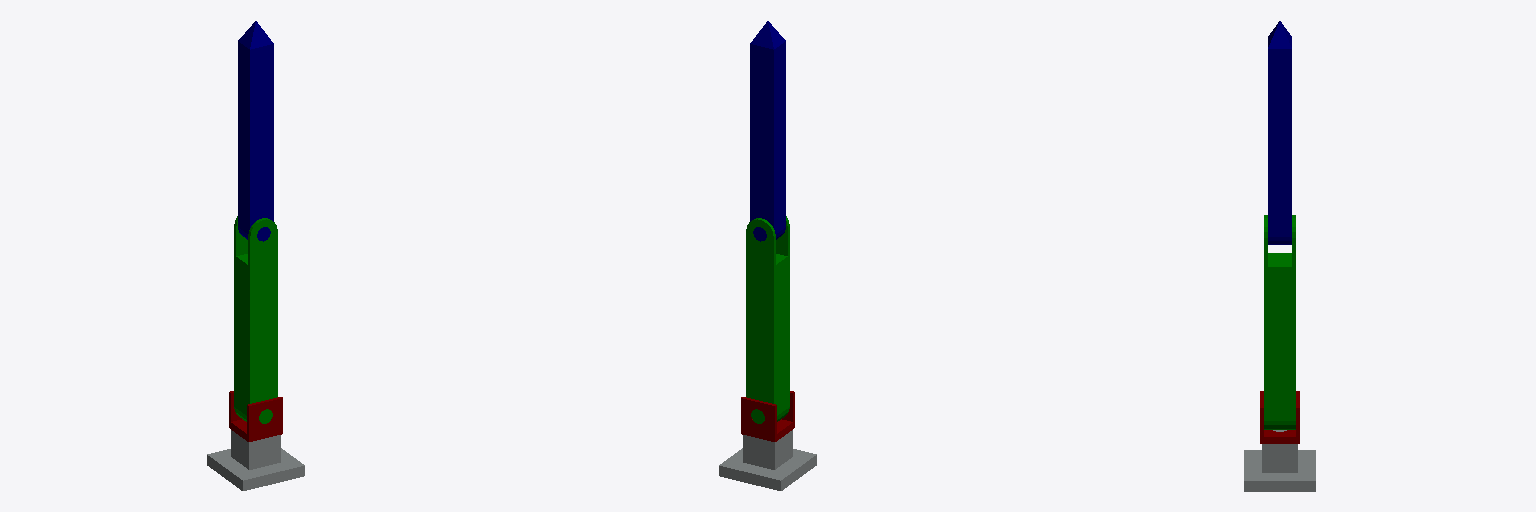
URDF robot description (Robot_3R_URDF_description):
<?xml version="1.0" encoding="utf-8"?>
<!-- This URDF was automatically created by SolidWorks to URDF Exporter! Originally created by [author] ([email redacted]) 
     Commit Version: 1.6.0-1-g15f4949  Build Version: 1.6.7594.29634
     For more information, please see http://wiki.ros.org/sw_urdf_exporter -->
<robot
  name="Robot_3R_URDF_description">
  <link
    name="base_link">
    <inertial>
      <origin
        xyz="-8.6736E-19 1.0408E-17 0.019134"
        rpy="0 0 0" />
      <mass
        value="1.604" />
      <inertia
        ixx="0.0011774"
        ixy="-4.8711E-20"
        ixz="-3.6375E-21"
        iyy="0.0011774"
        iyz="-5.648E-20"
        izz="0.0014939" />
    </inertial>
    <visual>
      <origin
        xyz="0 0 0"
        rpy="0 0 0" />
      <geometry>
        <mesh
          filename="package://Robot_3R_URDF_description/meshes/base_link.STL" />
      </geometry>
      <material
        name="gris">
        <color
          rgba="0.52941 0.54902 0.54902 1" />
      </material>
    </visual>
    <collision>
      <origin
        xyz="0 0 0"
        rpy="0 0 0" />
      <geometry>
        <mesh
          filename="package://Robot_3R_URDF_description/meshes/base_link.STL" />
      </geometry>
    </collision>
  </link>
  <link
    name="wrist_link">
    <inertial>
      <origin
        xyz="-1.4745E-17 6.9389E-18 -0.014114"
        rpy="0 0 0" />
      <mass
        value="0.10454" />
      <inertia
        ixx="6.053E-05"
        ixy="-5.9702E-21"
        ixz="-2.2069E-21"
        iyy="4.8429E-05"
        iyz="-1.8968E-21"
        izz="6.1877E-05" />
    </inertial>
    <visual>
      <origin
        xyz="0 0 0"
        rpy="0 0 0" />
      <geometry>
        <mesh
          filename="package://Robot_3R_URDF_description/meshes/wrist_link.STL" />
      </geometry>
      <material
        name="rojo">
        <color
          rgba="0.5 0 0 1" />
      </material>
    </visual>
    <collision>
      <origin
        xyz="0 0 0"
        rpy="0 0 0" />
      <geometry>
        <mesh
          filename="package://Robot_3R_URDF_description/meshes/wrist_link.STL" />
      </geometry>
    </collision>
  </link>
  <joint
    name="base_wrist_joint"
    type="revolute">
    <origin
      xyz="0 0 0.085"
      rpy="0 0 0" />
    <parent
      link="base_link" />
    <child
      link="wrist_link" />
    <axis
      xyz="0 0 1" />
    <limit
      lower="-3.1416"
      upper="3.1416"
      effort="10.1"
      velocity="2.96" />
  </joint>
  <link
    name="forearm">
    <inertial>
      <origin
        xyz="4.0766E-17 6.9389E-18 0.10324"
        rpy="0 0 0" />
      <mass
        value="1.0352" />
      <inertia
        ixx="0.005353"
        ixy="-3.0072E-20"
        ixz="-1.7699E-18"
        iyy="0.0053379"
        iyz="-3.847E-19"
        izz="0.00028546" />
    </inertial>
    <visual>
      <origin
        xyz="0 0 0"
        rpy="0 0 0" />
      <geometry>
        <mesh
          filename="package://Robot_3R_URDF_description/meshes/forearm.STL" />
      </geometry>
      <material
        name="verde">
        <color
          rgba="0 0.5 0 1" />
      </material>
    </visual>
    <collision>
      <origin
        xyz="0 0 0"
        rpy="0 0 0" />
      <geometry>
        <mesh
          filename="package://Robot_3R_URDF_description/meshes/forearm.STL" />
      </geometry>
    </collision>
  </link>
  <joint
    name="wrist_forearm"
    type="revolute">
    <origin
      xyz="0 0 0"
      rpy="0 0 0" />
    <parent
      link="wrist_link" />
    <child
      link="forearm" />
    <axis
      xyz="0 1 0" />
    <limit
      lower="-3.1416"
      upper="3.1416"
      effort="10.1"
      velocity="2.96" />
  </joint>
  <link
    name="arm">
    <inertial>
      <origin
        xyz="3.9899E-17 1.3878E-17 0.1255"
        rpy="0 0 0" />
      <mass
        value="0.80522" />
      <inertia
        ixx="0.0054673"
        ixy="-1.4431E-20"
        ixz="-1.7858E-18"
        iyy="0.0054852"
        iyz="-6.8372E-19"
        izz="0.00014089" />
    </inertial>
    <visual>
      <origin
        xyz="0 0 0"
        rpy="0 0 0" />
      <geometry>
        <mesh
          filename="package://Robot_3R_URDF_description/meshes/arm.STL" />
      </geometry>
      <material
        name="azul">
        <color
          rgba="0 0 0.5 1" />
      </material>
    </visual>
    <collision>
      <origin
        xyz="0 0 0"
        rpy="0 0 0" />
      <geometry>
        <mesh
          filename="package://Robot_3R_URDF_description/meshes/arm.STL" />
      </geometry>
    </collision>
  </link>
  <joint
    name="forearm_arm_joint"
    type="revolute">
    <origin
      xyz="0 0 0.25"
      rpy="0 0 0" />
    <parent
      link="forearm" />
    <child
      link="arm" />
    <axis
      xyz="0 1 0" />
    <limit
      lower="-3.1416"
      upper="3.1416"
      effort="10.1"
      velocity="2.96" />
  </joint>
  <link
    name="end_efector">
    <inertial>
      <origin
        xyz="-5.5511E-17 -1.7347E-17 -0.162"
        rpy="0 0 0" />
      <mass
        value="0.80522" />
      <inertia
        ixx="0.0054673"
        ixy="-1.4431E-20"
        ixz="-1.7889E-18"
        iyy="0.0054852"
        iyz="-6.8399E-19"
        izz="0.00014089" />
    </inertial>
    <visual>
      <origin
        xyz="0 0 0"
        rpy="0 0 0" />
      <geometry>
        <mesh
          filename="package://Robot_3R_URDF_description/meshes/end_efector.STL" />
      </geometry>
      <material
        name="blue">
        <color
          rgba="0 0 0.5 1" />
      </material>
    </visual>
    <collision>
      <origin
        xyz="0 0 0"
        rpy="0 0 0" />
      <geometry>
        <mesh
          filename="package://Robot_3R_URDF_description/meshes/end_efector.STL" />
      </geometry>
    </collision>
  </link>
  <joint
    name="arm_end_efector_joint"
    type="fixed">
    <origin
      xyz="0 0 0.2875"
      rpy="0 0 0" />
    <parent
      link="arm" />
    <child
      link="end_efector" />
    <axis
      xyz="0 0 0" />
  </joint>
</robot>

--- What the picture shows (computed from the rendered views, not written in the file) ---
Views: 3 orthographic renders of the robot side by side, from view 1: azimuth 30°, elevation 25°; view 2: azimuth 150°, elevation 25°; view 3: azimuth 270°, elevation 25°.
Robot: Robot_3R_URDF_description — 5 links, 4 joints (3 revolute, 1 fixed); root link base_link; default pose: all joints at 0.
Visible links, largest first — view 1: forearm, arm, base_link, wrist_link; view 2: forearm, arm, base_link, wrist_link; view 3: forearm, arm, base_link, wrist_link.
Link boxes in pixels (box(x1,y1,x2,y2)): forearm: box(234, 216, 277, 423); arm: box(238, 21, 273, 241); base_link: box(207, 430, 304, 490); wrist_link: box(229, 391, 282, 441); forearm: box(746, 216, 789, 423); arm: box(750, 21, 785, 241); base_link: box(719, 430, 816, 490); wrist_link: box(741, 391, 794, 441); forearm: box(1264, 215, 1295, 429); arm: box(1268, 21, 1291, 244); base_link: box(1244, 430, 1315, 491); wrist_link: box(1260, 391, 1299, 443).
Size in the robot's own frame: 0.09 by 0.09 by 0.6225 metres.
5 mesh visuals loaded from 5 distinct referenced files (5 binary STL).
